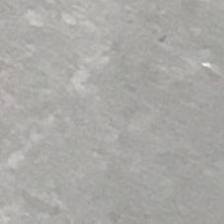Non_Crack: (29, 16, 215, 206)
